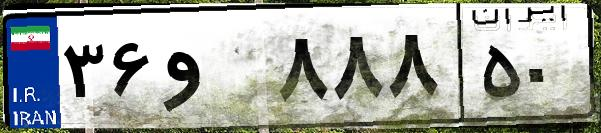0: (525, 38, 570, 115)
3: (57, 26, 110, 100)
5: (475, 38, 525, 113)
6: (110, 28, 158, 98)
8: (270, 28, 330, 110), (385, 28, 445, 110), (330, 28, 385, 110)
و: (158, 20, 270, 120)
